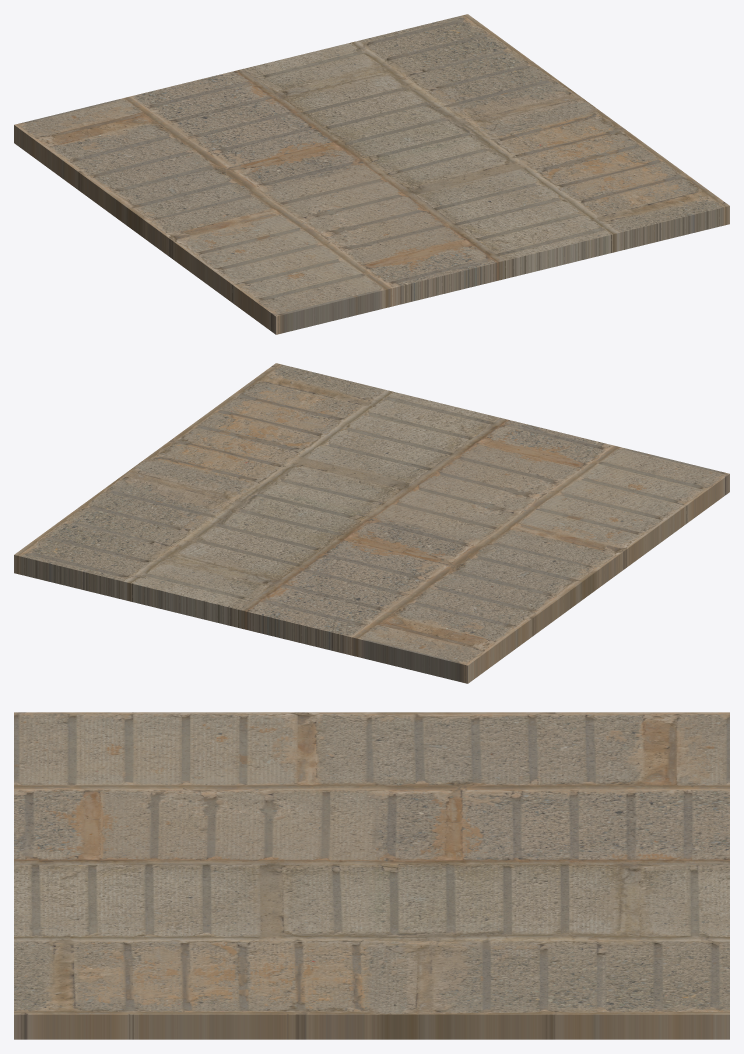
File: Wall.glb
3 renders of one model, top to bottom at view 1: azimuth 30°, elevation 25°; view 2: azimuth 150°, elevation 25°; view 3: azimuth 270°, elevation 25°, orthographic. The views are drawn at different scales.
Parts seen in each view (by area): view 1: Plane; view 2: Plane; view 3: Plane.
Part boxes in pixels (bbox=[...]): Plane: bbox=[14, 14, 729, 334]; Plane: bbox=[14, 363, 729, 683]; Plane: bbox=[14, 712, 729, 1039].
Bounding box in the file's own units: 12.64 × 0.4862 × 12.64.
1 material, 1 textured.
